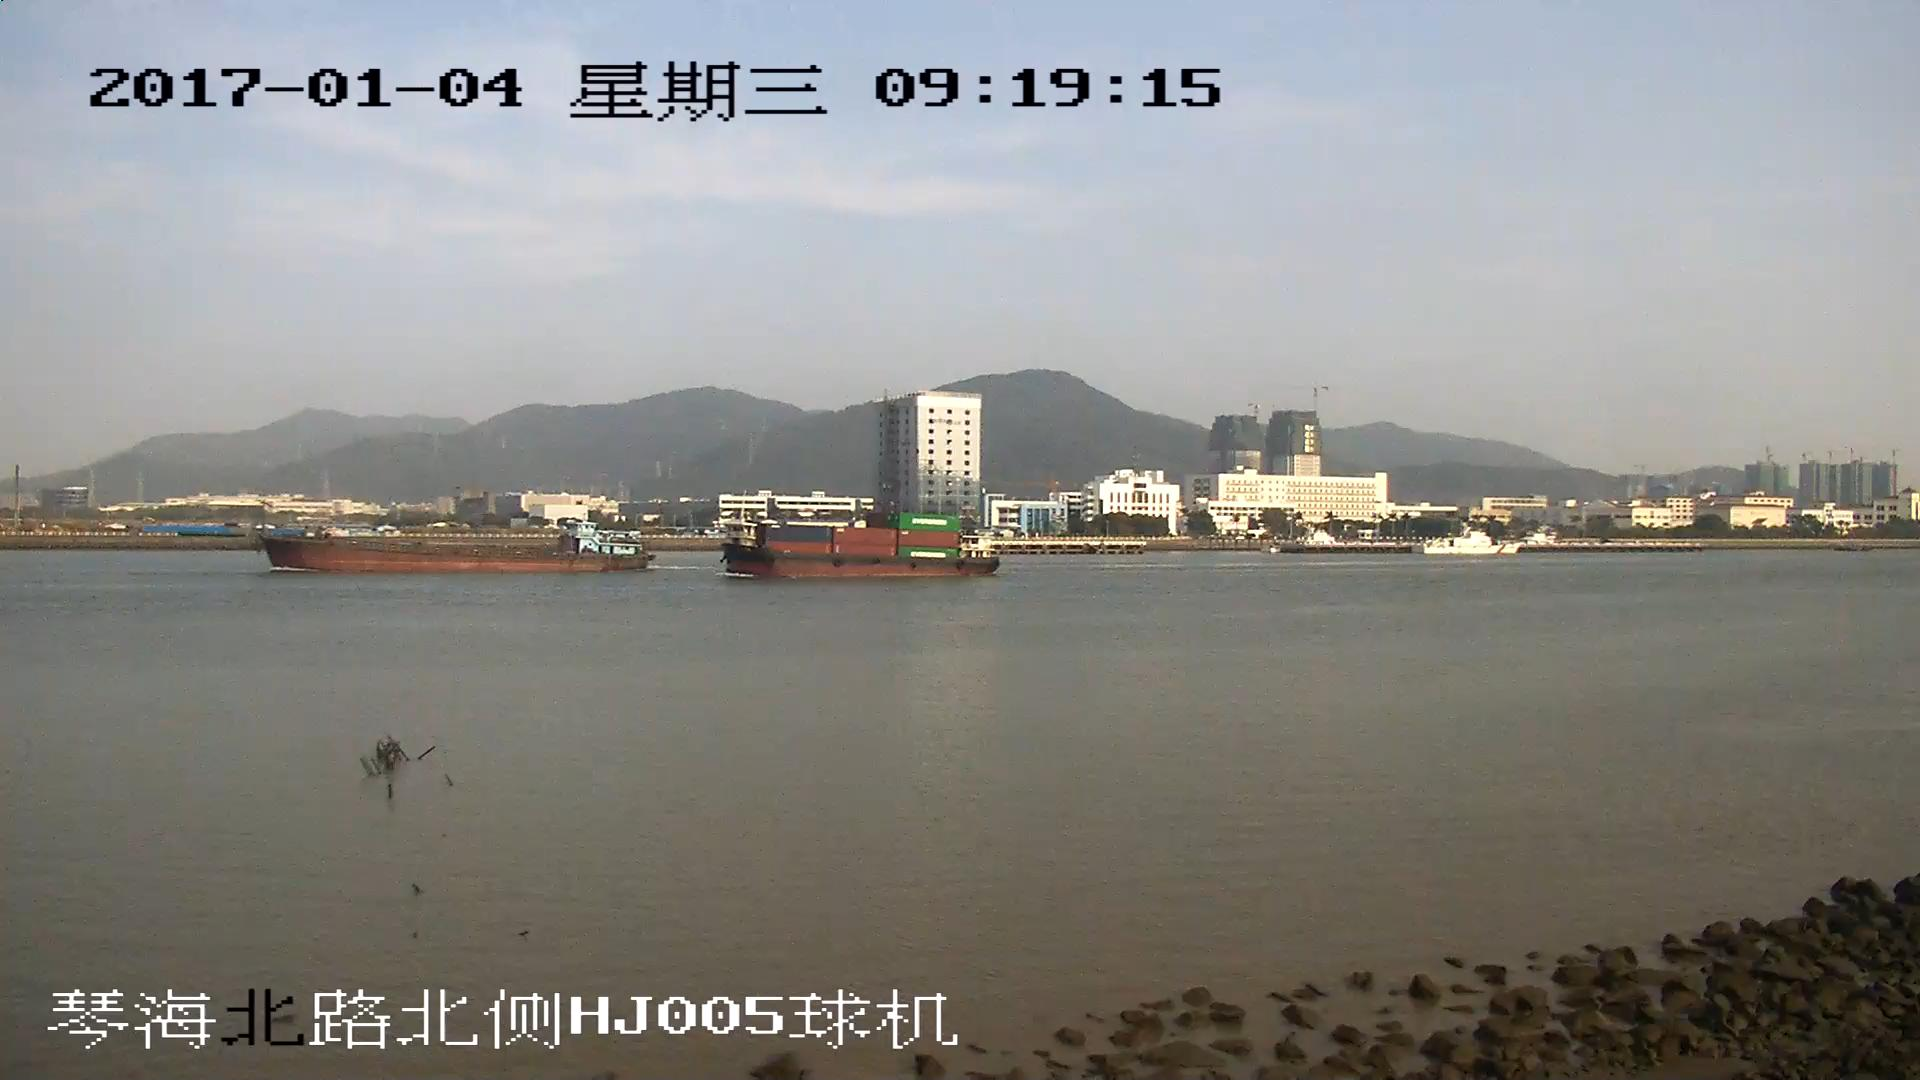bulk cargo carrier: (258, 515, 656, 572)
container ship: (721, 508, 1003, 577)
